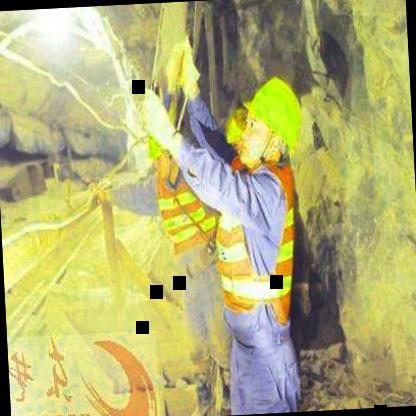helmet: (233, 73, 308, 181)
